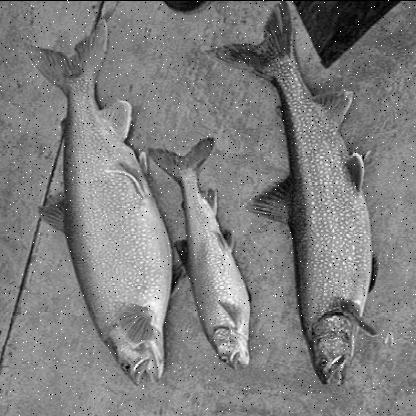fish: (205, 7, 380, 389), (22, 17, 184, 384), (148, 134, 254, 369)
